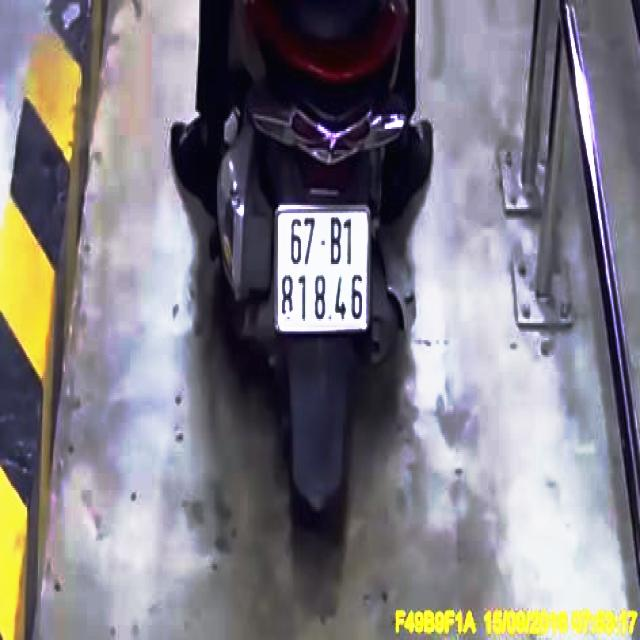license_plate: (277, 208, 373, 331)
